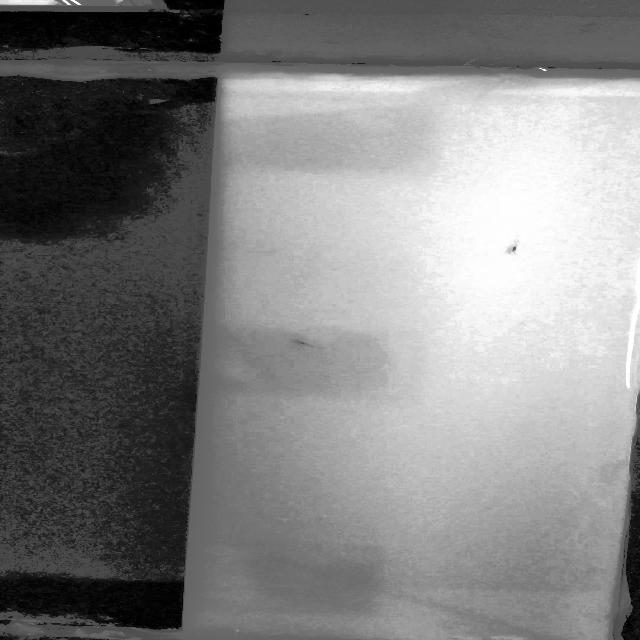shrimp: (498, 232, 538, 260), (288, 334, 324, 353)
